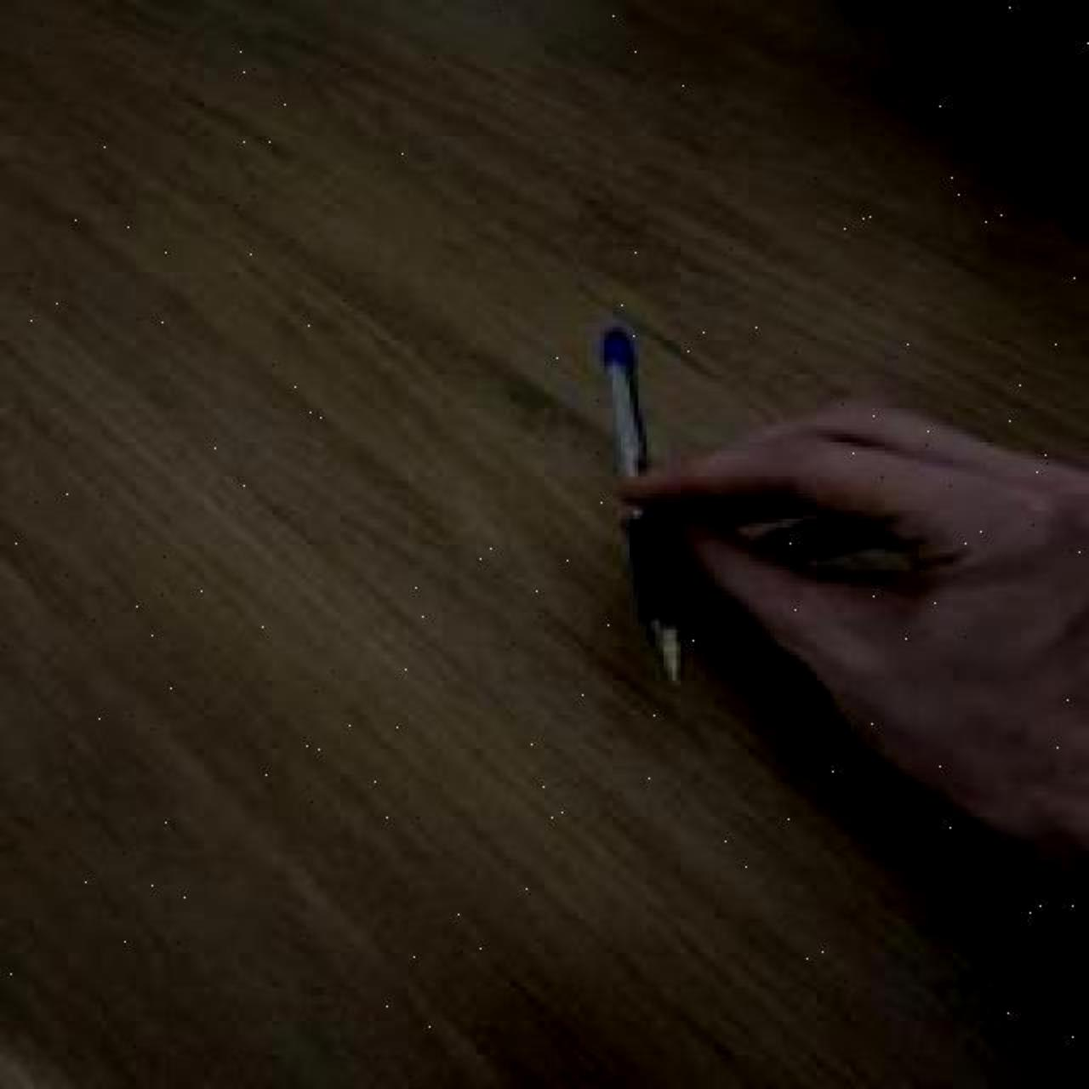pen: (594, 328, 684, 691)
